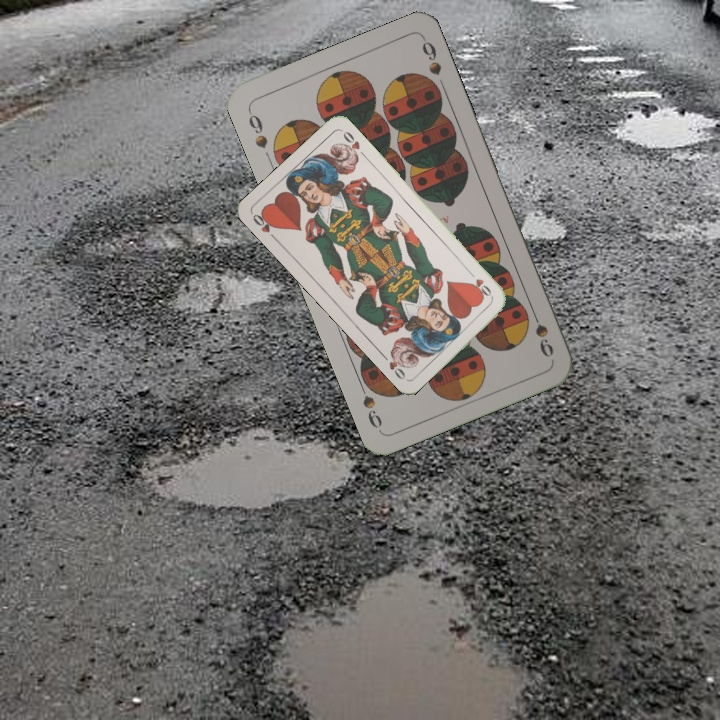HO: (249, 208, 280, 243), (465, 267, 495, 300)
S9: (521, 304, 556, 361), (244, 106, 270, 151)
